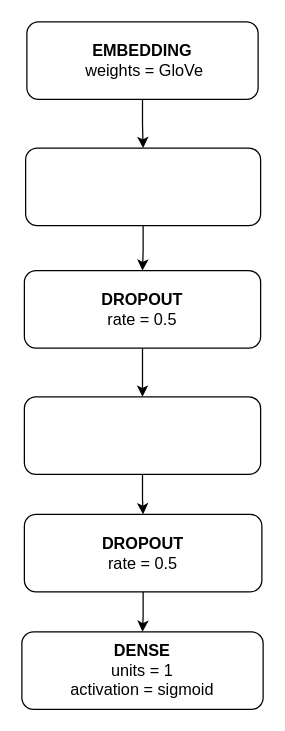
Some shapes in this 285 by 731 pixel diagram are drawn without their labels. Each missing label, with the centre of its shape:
GRU units = 64 activation = tanh: [142,186]
GRU units = 8 activation = tanh: [142,435]
